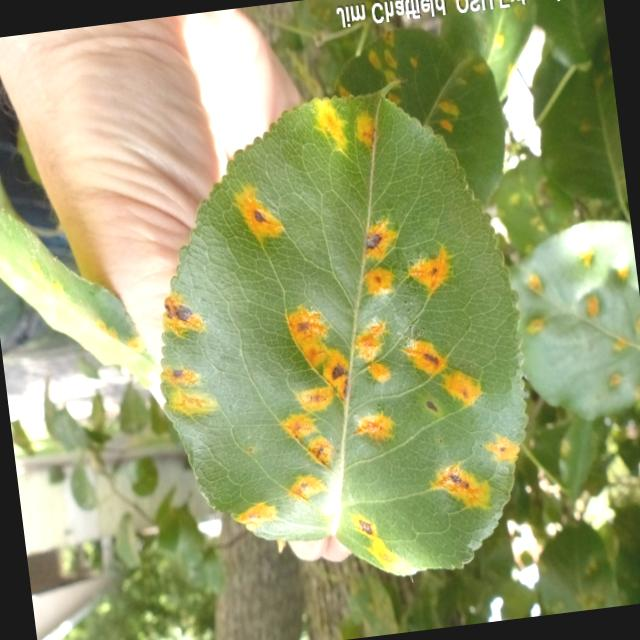leaf_rust: (161, 95, 523, 574)
